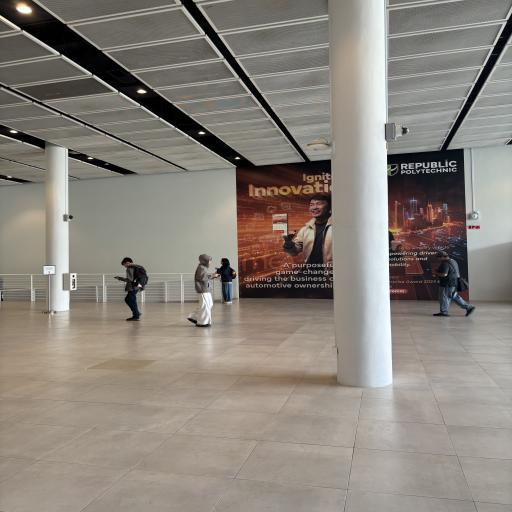person_left: (422, 250, 484, 317), (110, 252, 153, 332), (214, 254, 242, 302)
person_right: (188, 250, 220, 327)
